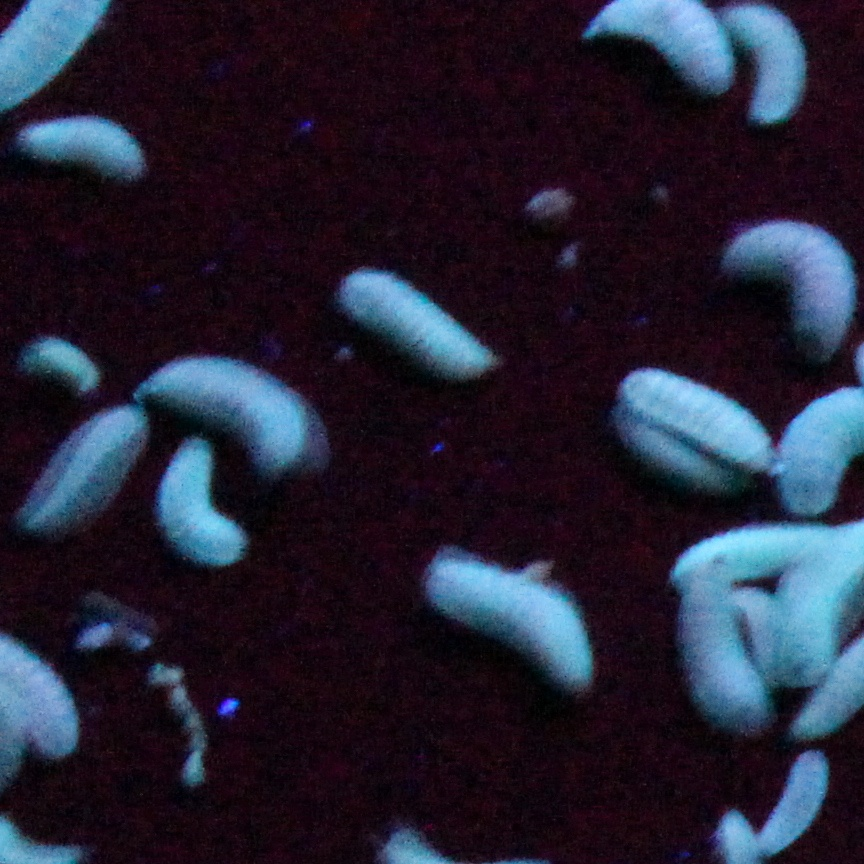larve: (427, 539, 592, 688), (342, 257, 496, 378), (724, 210, 845, 350), (149, 355, 303, 459), (36, 411, 145, 522), (634, 374, 766, 448), (166, 441, 247, 559), (617, 415, 724, 496), (694, 588, 750, 725), (736, 11, 805, 120), (763, 757, 827, 852), (675, 527, 805, 573), (26, 124, 143, 174), (743, 587, 780, 683), (27, 338, 94, 388)
